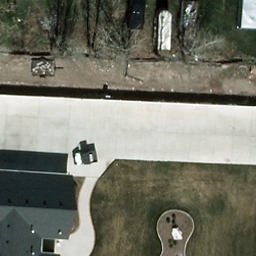car: (125, 0, 149, 31)
